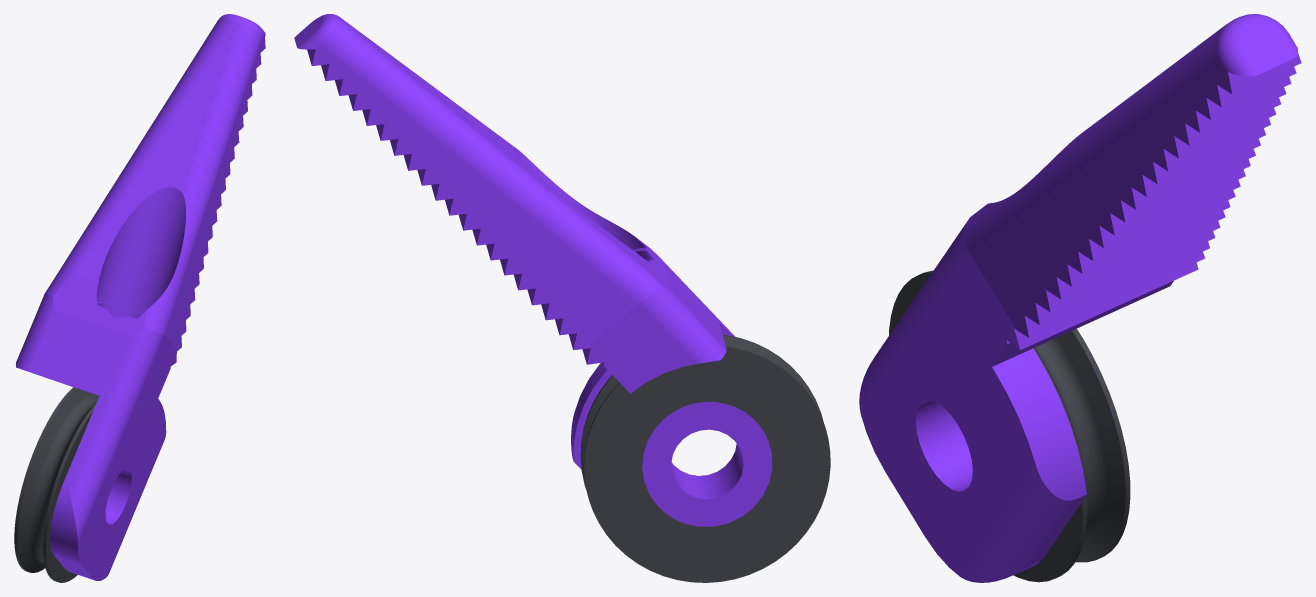
Rendered from grasper_2.dae.
3 renders of one model, left to right at view 1: azimuth 30°, elevation 25°; view 2: azimuth 150°, elevation 25°; view 3: azimuth 270°, elevation 25°, orthographic. The views are drawn at different scales.
Parts seen in each view (by area): view 1: Actor1, Actor0; view 2: Actor1, Actor0; view 3: Actor1, Actor0.
Boxes of the visible parts, left/top/right/bottom form: Actor1: left=16, top=14, right=265, bottom=580; Actor0: left=14, top=387, right=99, bottom=582; Actor1: left=294, top=14, right=772, bottom=526; Actor0: left=580, top=334, right=830, bottom=582; Actor1: left=859, top=14, right=1301, bottom=582; Actor0: left=889, top=270, right=1130, bottom=582.
Bounding box in the file's own units: 0.0167 × 0.0208 × 0.0113.
